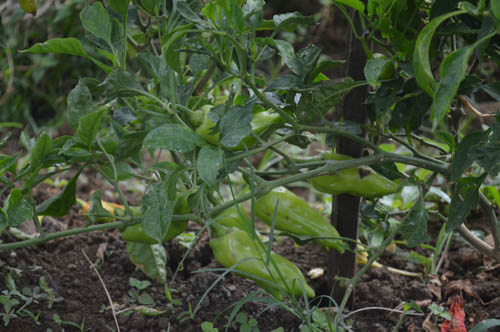ChiliPepper: (208, 230, 315, 294), (258, 186, 343, 247), (308, 154, 398, 200), (118, 200, 193, 249), (197, 106, 253, 147)
